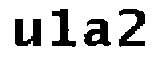1: (49, 7, 78, 51)
2: (115, 4, 148, 53)
a: (82, 16, 111, 50)
u: (11, 15, 43, 50)
